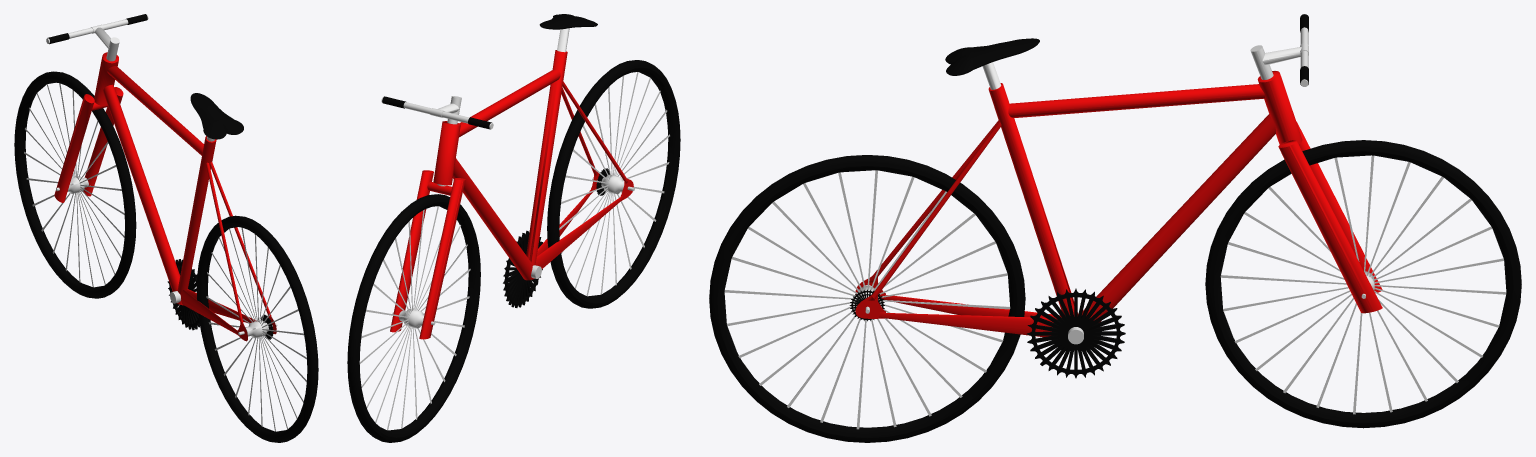
File: cycle.glb
3 renders of one model, left to right at view 1: azimuth 30°, elevation 25°; view 2: azimuth 150°, elevation 25°; view 3: azimuth 270°, elevation 25°, orthographic. The views are drawn at different scales.
Visible parts, largest first — view 1: Cylinder.002_0; view 2: Cylinder.002_0; view 3: Cylinder.002_0.
Boxes of the visible parts, x1,y1,x2,y2 form: Cylinder.002_0: (14, 14, 318, 442); Cylinder.002_0: (347, 14, 680, 442); Cylinder.002_0: (709, 14, 1521, 442).
Size of the model in its own units: 0.5562 by 1.58 by 2.89.
